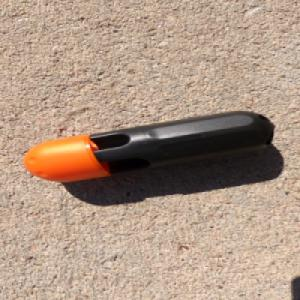PlasticPart: (19, 110, 275, 184)
